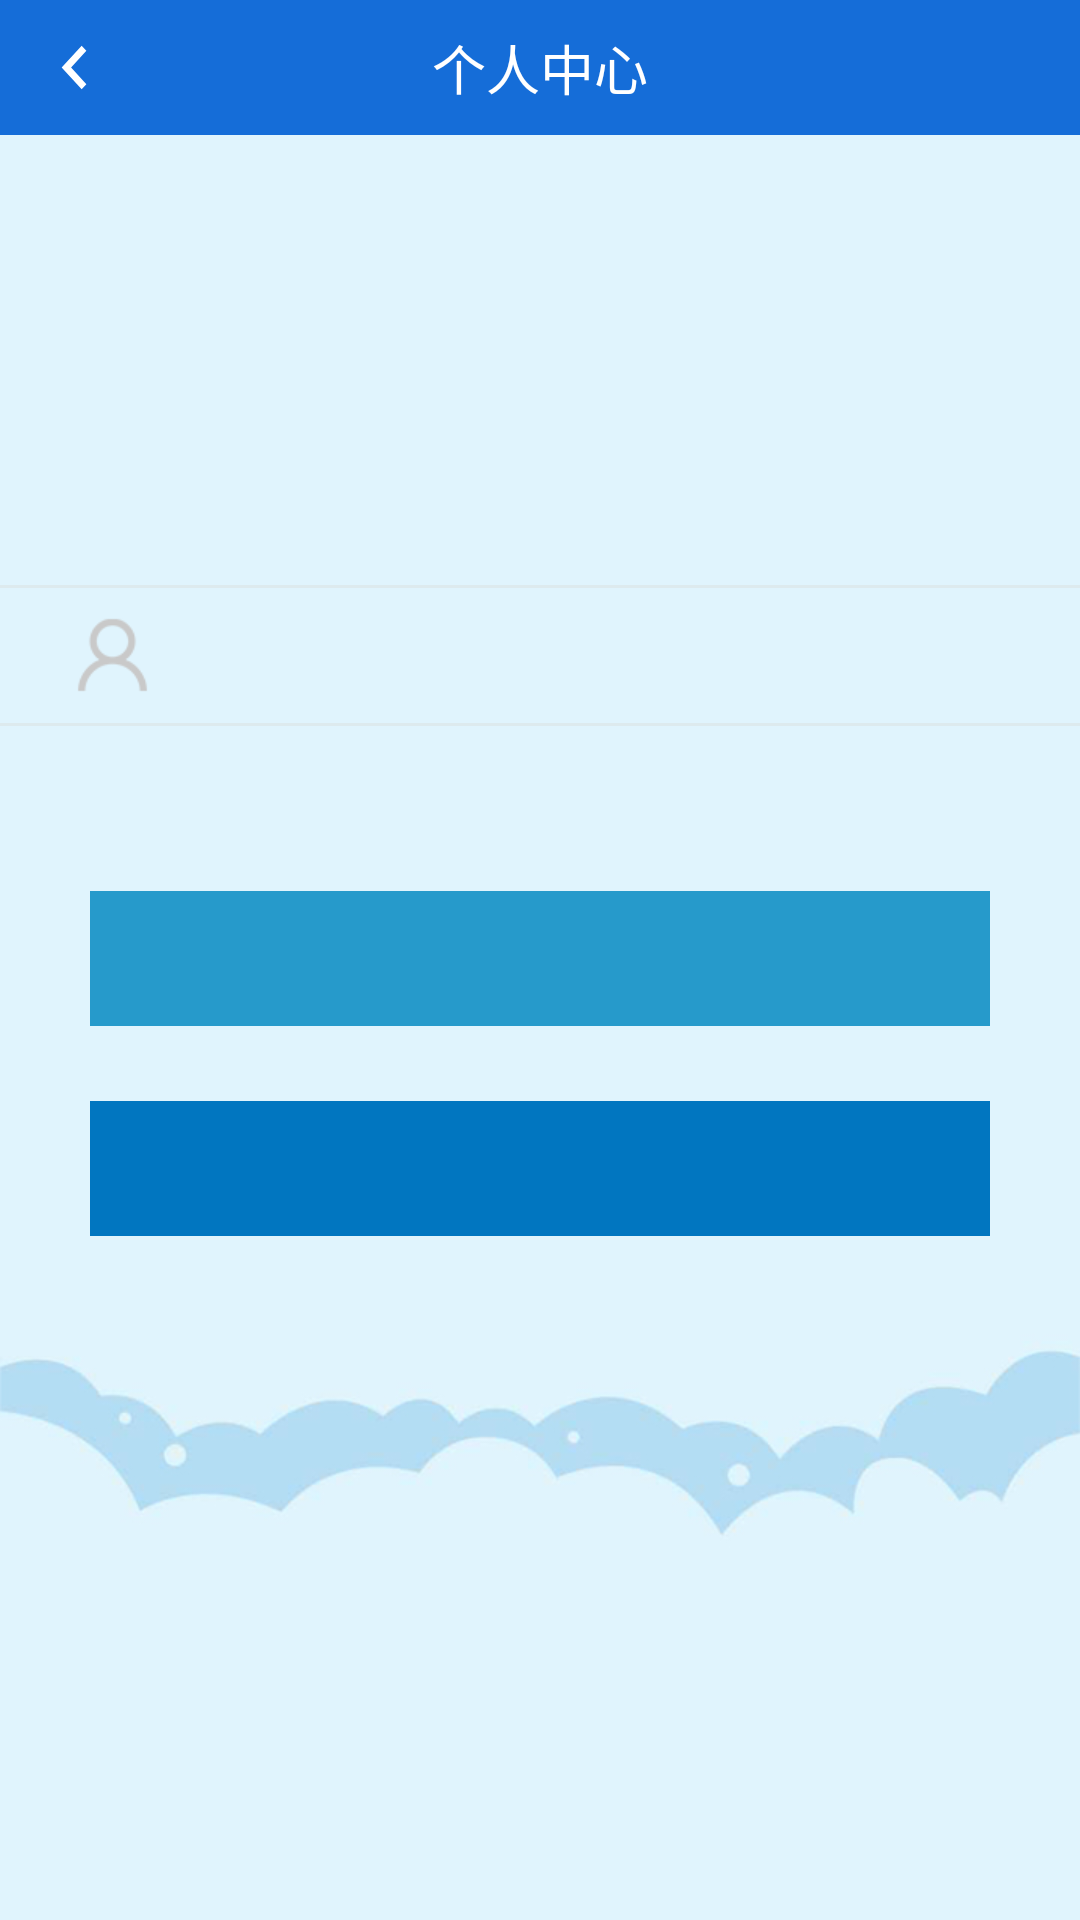

Icon bounding boxes for this 1080 x 1920 phone screenshot, format (x1, y1, x2, y2):
left: (62, 46, 87, 89)
user: (78, 619, 147, 691)
